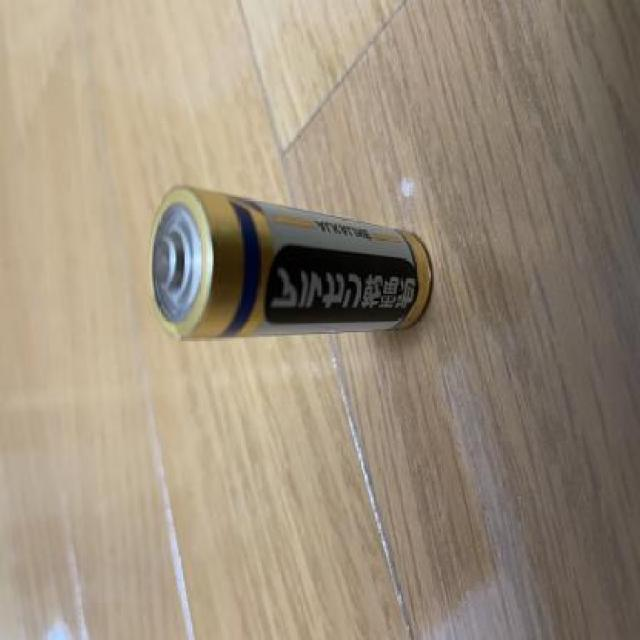AA: (142, 183, 462, 354)
